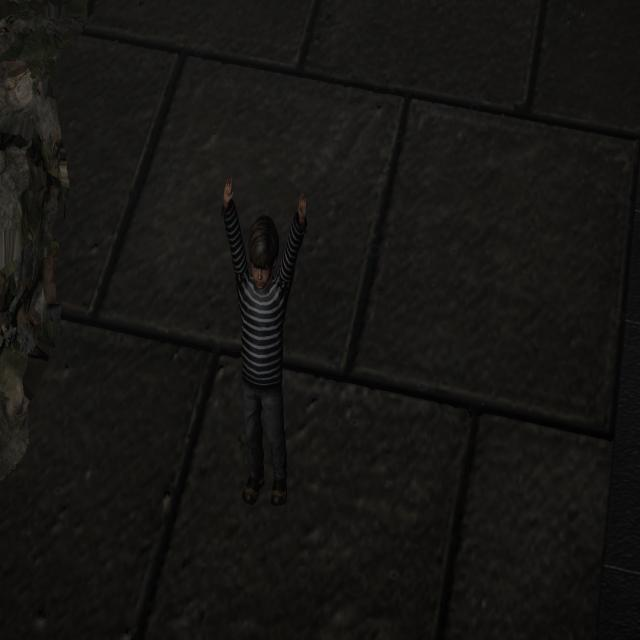Human: (218, 168, 310, 522)
